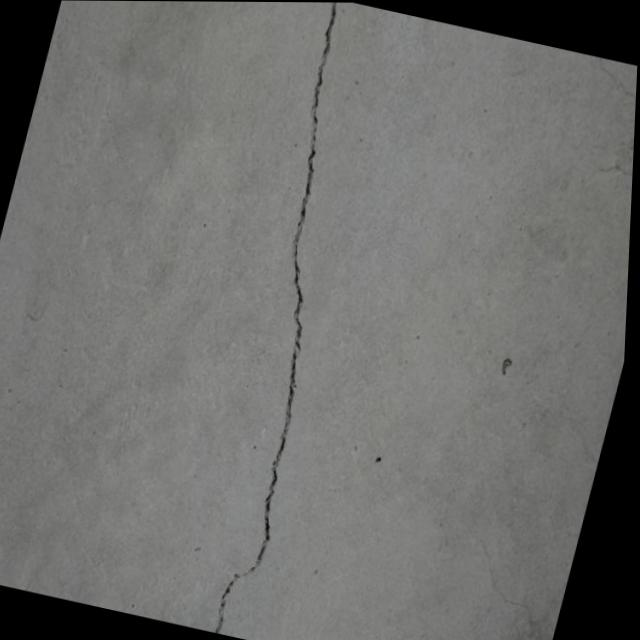Crack: (162, 1, 412, 640)
